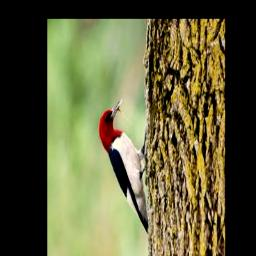Woodpecker: (98, 99, 147, 232)
